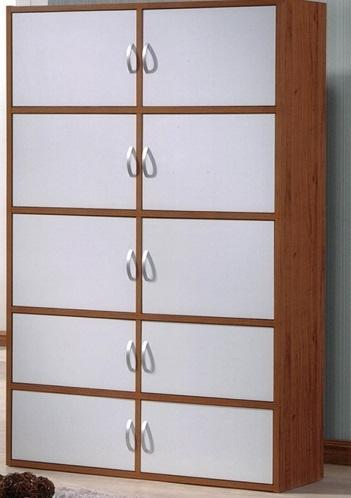cabinet_door: (141, 218, 273, 317), (141, 112, 274, 210), (141, 6, 275, 103), (11, 214, 136, 311), (10, 113, 135, 209), (12, 15, 137, 110), (143, 404, 276, 480), (10, 395, 136, 475), (144, 323, 277, 396), (11, 316, 137, 388)
handle: (143, 143, 156, 182), (142, 339, 155, 378), (144, 42, 157, 80), (143, 247, 155, 287), (127, 143, 138, 182), (126, 338, 137, 377), (142, 419, 153, 458), (127, 42, 138, 80), (126, 247, 137, 285), (125, 419, 136, 456)
